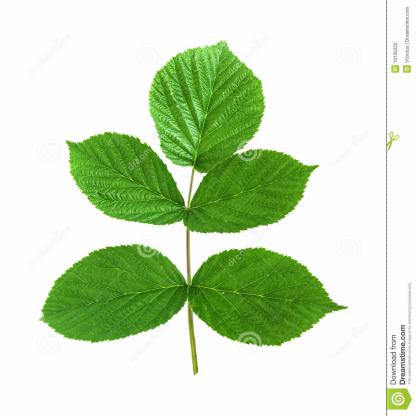soybean leaf: (188, 247, 350, 347), (152, 39, 266, 174), (38, 243, 186, 345), (187, 147, 319, 235), (66, 131, 187, 225)
